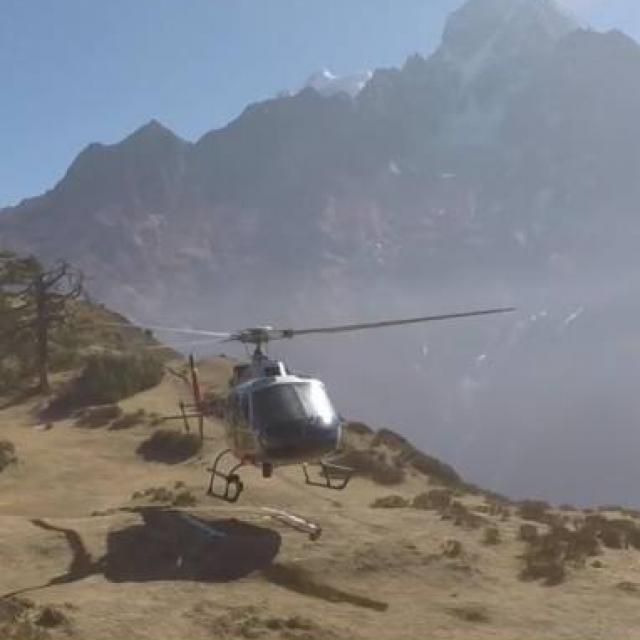helicopter: (103, 304, 519, 502)
